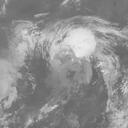cyclone: (45, 15, 103, 61)
